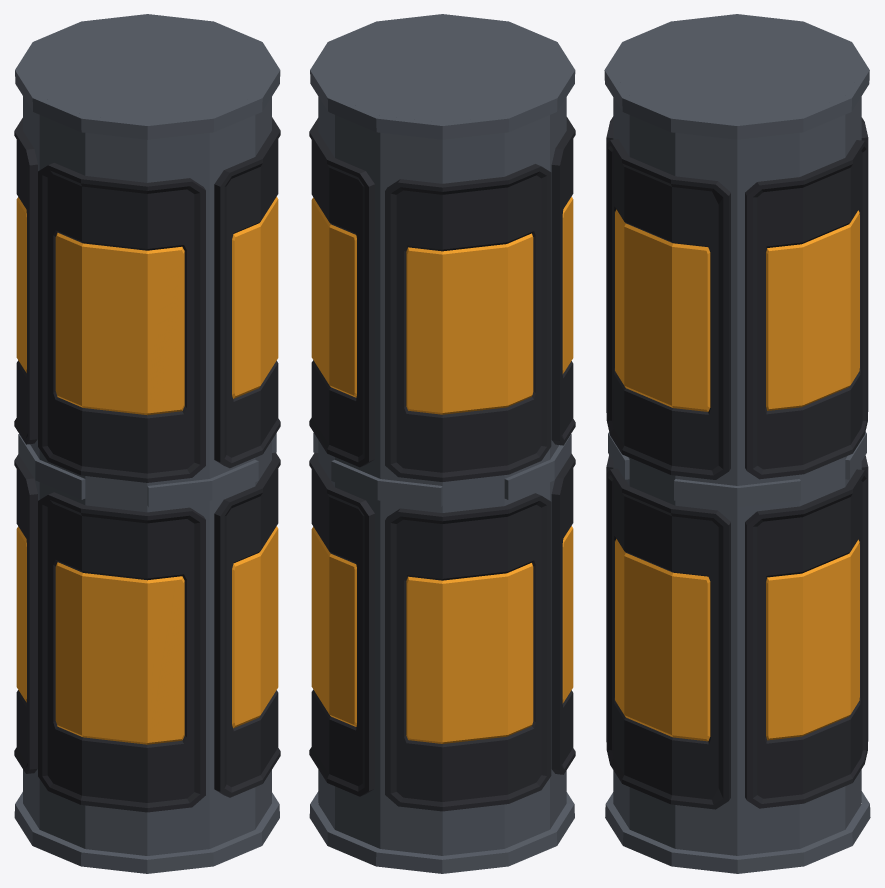
Rendered from SM_Straight_pipe.glb.
The picture shows the model from 3 angles, left to right: view 1: azimuth 30°, elevation 25°; view 2: azimuth 150°, elevation 25°; view 3: azimuth 270°, elevation 25°; orthographic projection.
Visible parts, largest first — view 1: SM_Straight_pipe; view 2: SM_Straight_pipe; view 3: SM_Straight_pipe.
Part boxes in pixels (x1=…): SM_Straight_pipe: x1=14, y1=14, x2=280, y2=873; SM_Straight_pipe: x1=309, y1=14, x2=575, y2=873; SM_Straight_pipe: x1=604, y1=14, x2=870, y2=873.
Bounding box in the file's own units: 0.6403 × 1.99 × 0.6419.
Materials: 1 (1 with a texture image).
